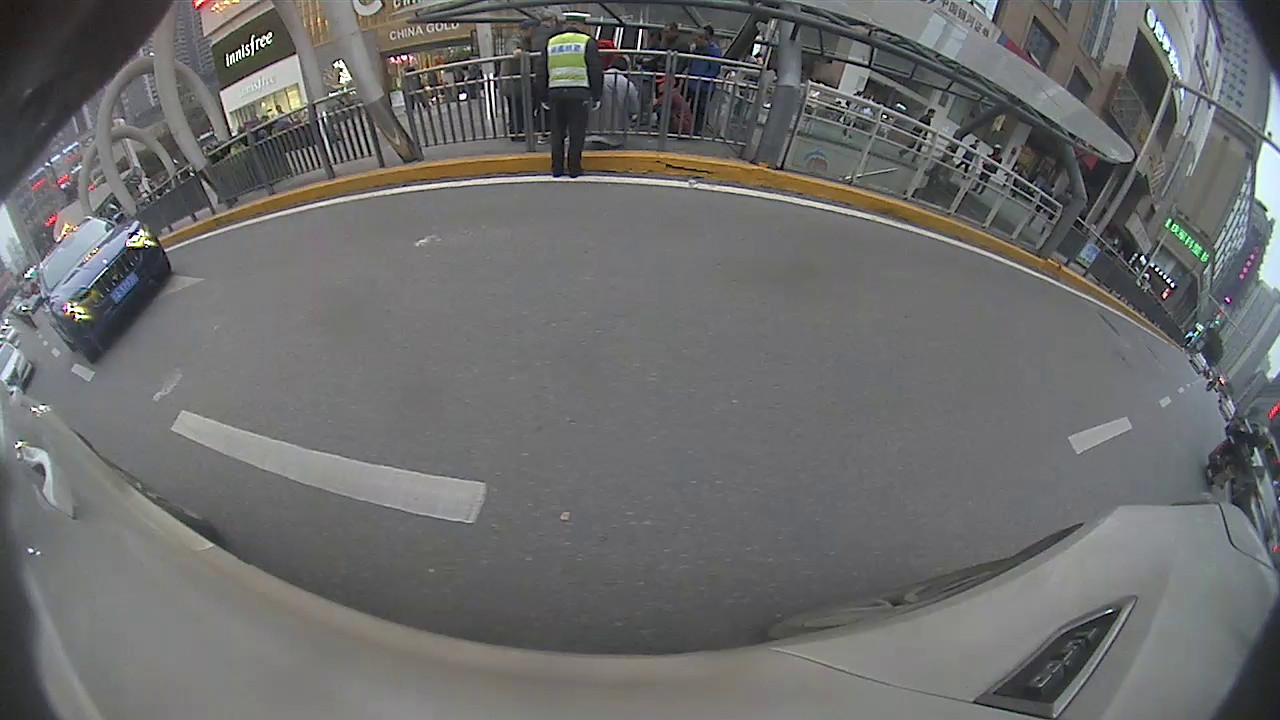car: (33, 214, 172, 364)
person: (536, 10, 602, 178)
